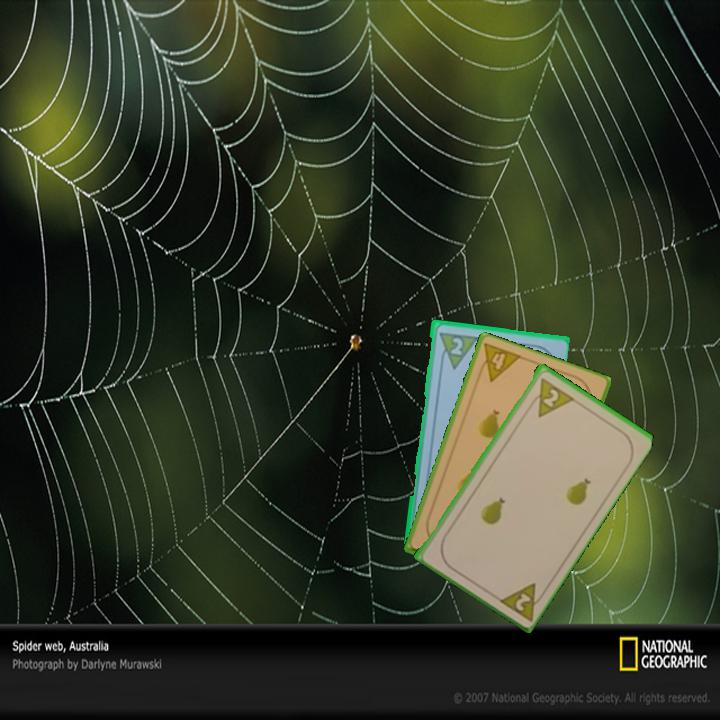2p: (494, 578, 549, 623), (525, 374, 575, 420), (446, 333, 465, 358)
4p: (473, 340, 524, 385)
